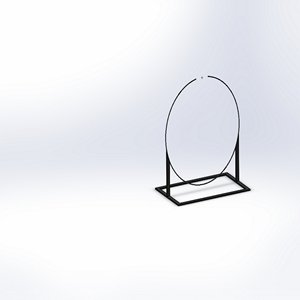circle: (152, 74, 252, 206)
